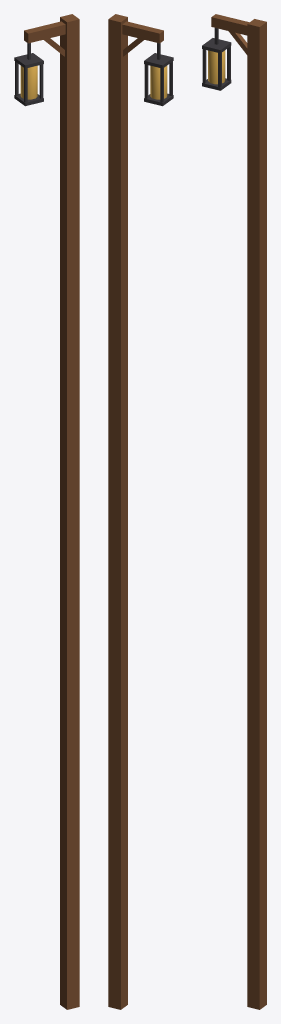
The model's file is MinecartMayhemLantern.obj.
3 renders of one model, left to right at view 1: azimuth 30°, elevation 25°; view 2: azimuth 150°, elevation 25°; view 3: azimuth 330°, elevation 25°, orthographic.
Visible parts, largest first — view 1: Timber, Iron, Glow; view 2: Timber, Iron, Glow; view 3: Timber, Iron, Glow.
Part boxes in pixels (x1=…): Timber: x1=24, y1=14, x2=79, y2=1009; Iron: x1=14, y1=43, x2=43, y2=106; Glow: x1=20, y1=65, x2=37, y2=99; Timber: x1=108, y1=14, x2=163, y2=1009; Iron: x1=144, y1=43, x2=173, y2=106; Glow: x1=150, y1=65, x2=167, y2=99; Timber: x1=211, y1=14, x2=266, y2=1009; Iron: x1=202, y1=28, x2=231, y2=90; Glow: x1=208, y1=50, x2=225, y2=84.
Bounding box in the file's own units: 1.8 × 30.2 × 0.6.
